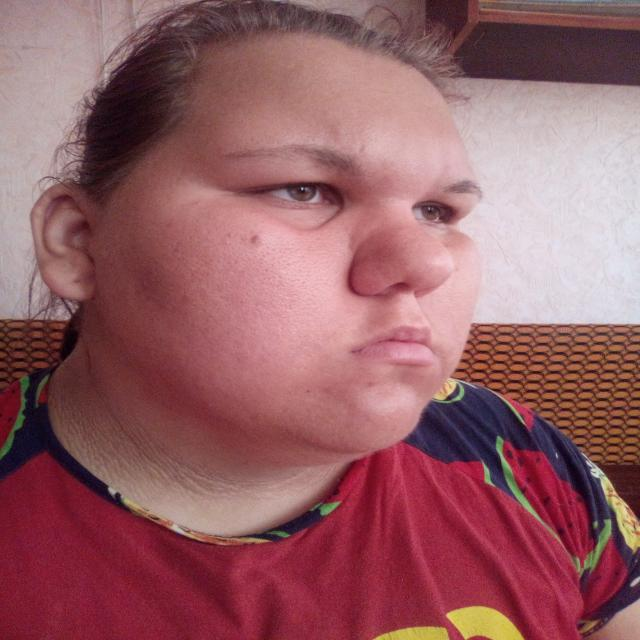Acne: (246, 231, 272, 251), (362, 376, 390, 393)
Englarged-Pores: (217, 255, 329, 346), (278, 237, 349, 256), (451, 277, 473, 312), (438, 314, 464, 341)
Eyebags: (256, 200, 356, 233)
